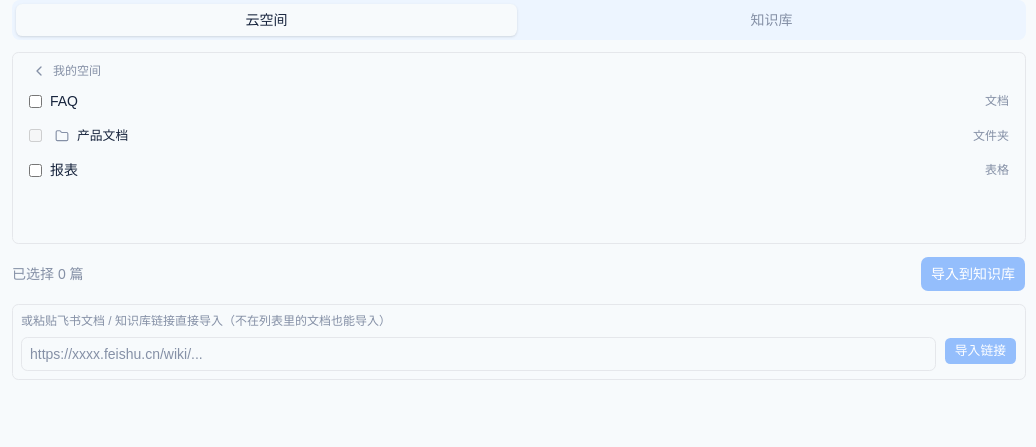
FeishuDocPicker › imports selected docs and shows result status
The image size is (1036, 447).
Click the checkbox named "选择 FAQ": (36, 101) [29, 94, 42, 108]
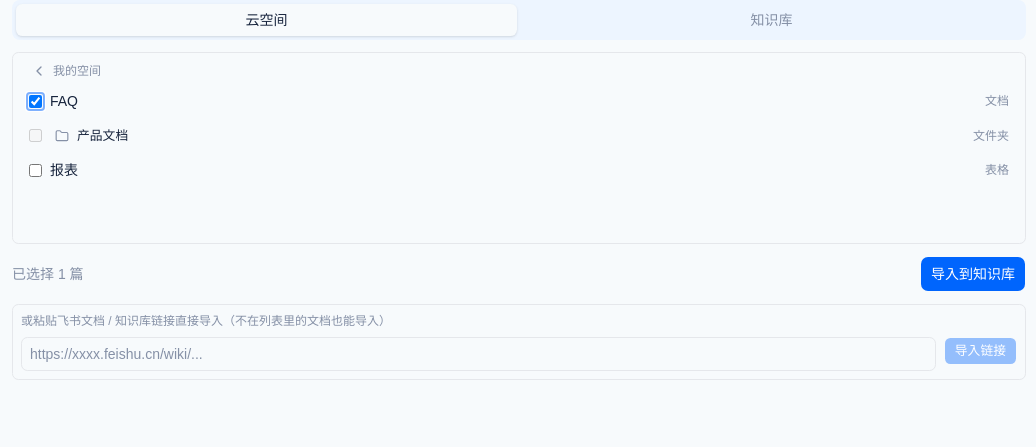
Click the button "导入到知识库": (973, 274) [920, 256, 1026, 292]
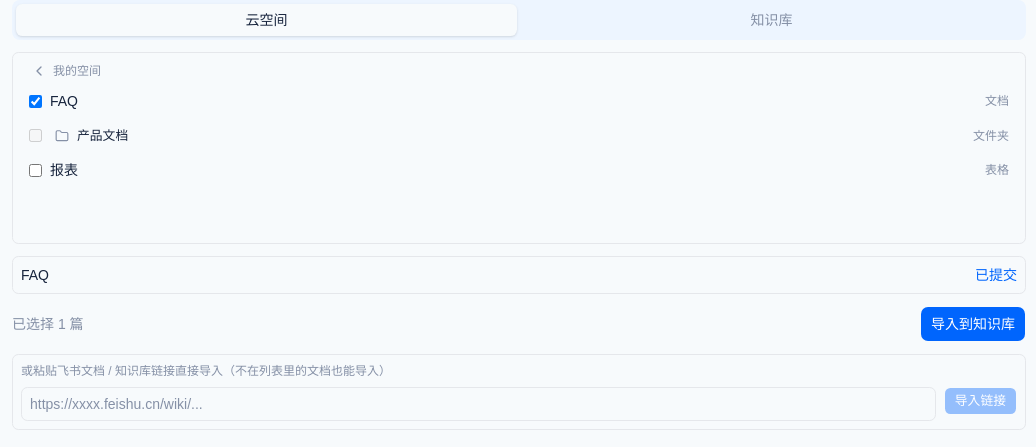
Result: the text "已提交" is shown at [975, 265, 1017, 285]
